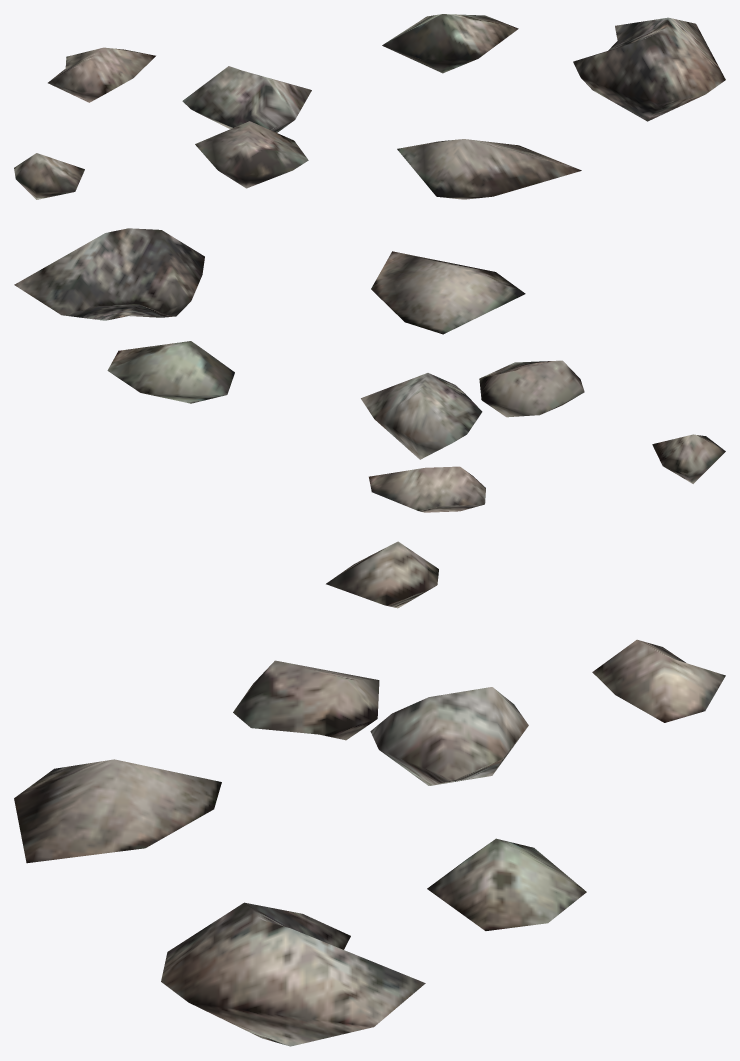
File: Pebbles1.DAE
3 views of the same model, one above another, from view 1: azimuth 30°, elevation 25°; view 2: azimuth 150°, elevation 25°; view 3: azimuth 270°, elevation 25° (orthographic). The views are drawn at different scales.
Visible parts, largest first — view 1: Plane001; view 2: Plane001; view 3: Plane001.
Part boxes in pixels (x1,y1,x2,y2): Plane001: [14, 14, 725, 199]; Plane001: [14, 228, 725, 512]; Plane001: [14, 541, 725, 1046].
Bounding box in the file's own units: 0.4138 × 0.2677 × 0.0491.
